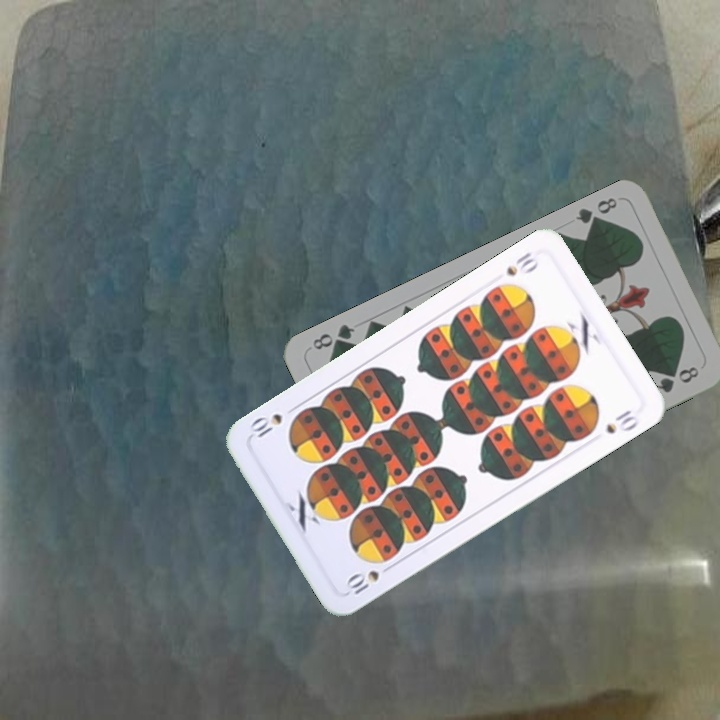G8: (571, 193, 620, 232)
S10: (341, 566, 382, 598), (502, 247, 542, 279)
